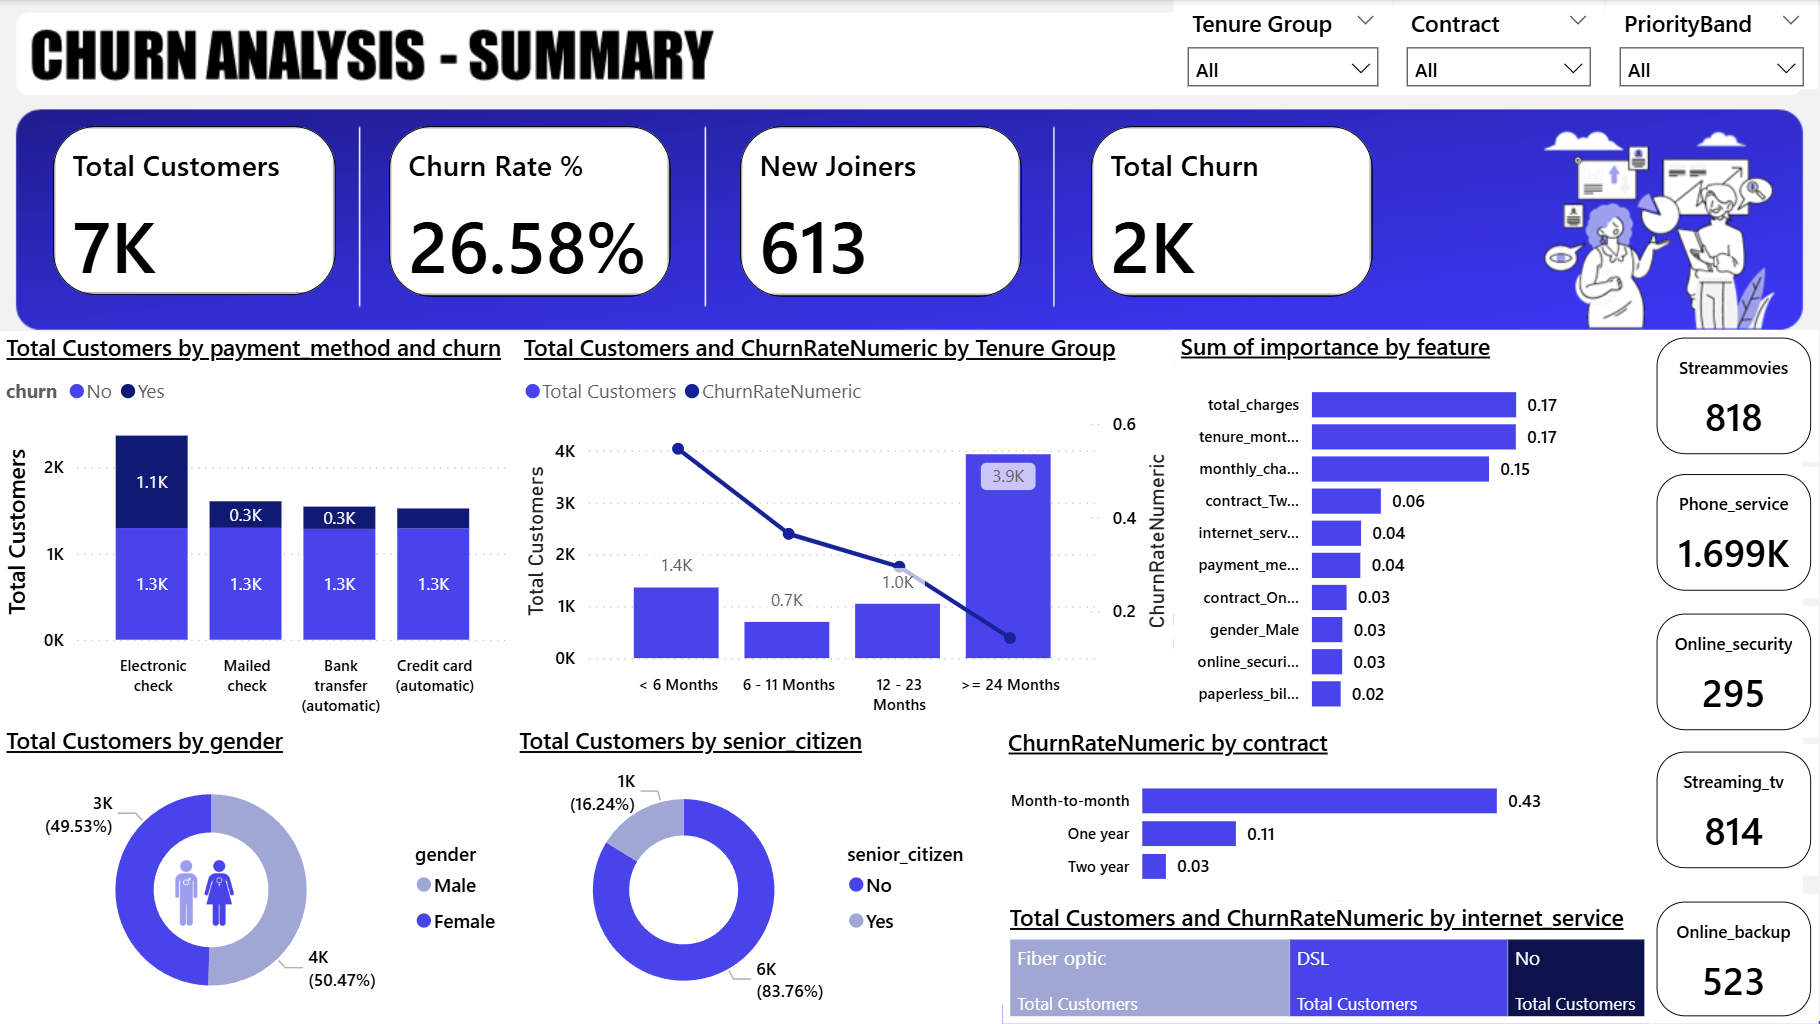

Layout of this report page (visuals, bound fields, positions):
{"tool":"powerbi","page":{"name":"Churn Dashboard","canvas":[1280,720],"ordinal":0},"visuals":[{"type":"cardVisual","fields":{"Data":["telco_project vw_churn_data.Total Customers"]},"box":[32.4,83.4,209.7,129.8],"z":0},{"type":"cardVisual","fields":{"Data":["telco_project vw_churn_data.Total Churn"]},"box":[762.5,83.8,208.8,130],"z":1000},{"type":"cardVisual","fields":{"Data":["telco_project vw_churn_data.Churn Rate %"]},"box":[268.8,83.8,208.8,130],"z":2000},{"type":"cardVisual","fields":{"Data":["telco_project vw_churn_data.New Joiners"]},"box":[516.2,83.8,208.8,130],"z":3000},{"type":"lineStackedColumnComboChart","fields":{"Category":["telco_project vw_churn_data.Tenure Group"],"Y":["telco_project vw_churn_data.Total Customers"],"Y2":["telco_project vw_churn_data.ChurnRateNumeric"]},"box":[363.9,233.1,462,276.3],"z":4000},{"type":"clusteredBarChart","fields":{"Category":["telco_project vw_churn_data.contract"],"Y":["telco_project vw_churn_data.ChurnRateNumeric"]},"box":[704.7,510.6,455.3,122.4],"z":5000},{"type":"donutChart","fields":{"Category":["telco_project vw_churn_data.gender"],"Y":["telco_project vw_churn_data.Total Customers"]},"box":[0,509.4,363.5,210.6],"z":6000},{"type":"treemap","fields":{"Group":["telco_project vw_churn_data.internet_service"],"Values":["telco_project vw_churn_data.Total Customers","telco_project vw_churn_data.ChurnRateNumeric"]},"box":[705.9,634.1,456.5,85.9],"z":7000},{"type":"columnChart","fields":{"Category":["telco_project vw_churn_data.payment_method"],"Y":["telco_project vw_churn_data.Total Customers"],"Series":["telco_project vw_churn_data.churn"]},"box":[0,233.1,363.9,277.4],"z":8000},{"type":"clusteredBarChart","fields":{"Category":["feature_importances.feature"],"Y":["Sum(feature_importances.importance)"]},"box":[825.6,231.9,335.7,278.7],"z":9000},{"type":"slicer","fields":{"Values":["telco_project vw_churn_data.Tenure Group"]},"box":[825.6,0,154.1,62.6],"z":10000,"group":"g1"},{"type":"cardVisual","title":"Phone Service","fields":{"Data":["CountNonNull(telco_project vw_churn_data.phone_service)"]},"box":[1160.4,328.2,119.5,92.4],"z":10000,"group":"g2"},{"type":"donutChart","fields":{"Category":["telco_project vw_churn_data.senior_citizen"],"Y":["telco_project vw_churn_data.Total Customers"]},"box":[361.2,509.4,344.7,210.6],"z":10000},{"type":"group","id":"g1","title":"Group 1","box":[825.6,0,453.8,62.8],"z":11000},{"type":"slicer","fields":{"Values":["telco_project vw_churn_data.contract"]},"box":[979.7,0,149.5,62.6],"z":11000,"group":"g1"},{"type":"cardVisual","fields":{"Data":["CountNonNull(telco_project vw_churn_data.streaming_tv)"]},"box":[1160.4,523.4,119.5,92.4],"z":11000,"group":"g2"},{"type":"slicer","fields":{"Values":["telco_project vw_churn_data.PriorityBand"]},"box":[1129.2,0,149.5,62.6],"z":12000,"group":"g1"},{"type":"group","id":"g2","title":"Group 2","box":[1160.4,231.9,119.8,487.9],"z":12000},{"type":"cardVisual","fields":{"Data":["CountNonNull(telco_project vw_churn_data.streaming_movies)"]},"box":[1160.4,231.9,119.5,92.4],"z":12000,"group":"g2"},{"type":"image","box":[88.3,592.2,111.7,70.1],"z":13000},{"type":"cardVisual","fields":{"Data":["CountNonNull(telco_project vw_churn_data.online_backup)"]},"box":[1160.4,628.8,119.5,91.1],"z":13000,"group":"g2"},{"type":"cardVisual","fields":{"Data":["CountNonNull(telco_project vw_churn_data.online_security)"]},"box":[1160.4,425.8,119.5,92.4],"z":14000,"group":"g2"}]}

Visuals, with their boxes in screenshot pixels (x1, y1, x2, y2), scaled from the page's 1280x720 canvas onto the 1820x1024 screenshot:
cardVisual - telco_project vw_churn_data.Total Customers: <bbox>46, 119, 344, 303</bbox>
cardVisual - telco_project vw_churn_data.Total Churn: <bbox>1084, 119, 1381, 304</bbox>
cardVisual - telco_project vw_churn_data.Churn Rate %: <bbox>382, 119, 679, 304</bbox>
cardVisual - telco_project vw_churn_data.New Joiners: <bbox>734, 119, 1031, 304</bbox>
lineStackedColumnComboChart - telco_project vw_churn_data.Tenure Group x telco_project vw_churn_data.Total Customers: <bbox>517, 332, 1174, 724</bbox>
clusteredBarChart - telco_project vw_churn_data.contract x telco_project vw_churn_data.ChurnRateNumeric: <bbox>1002, 726, 1649, 900</bbox>
donutChart - telco_project vw_churn_data.gender x telco_project vw_churn_data.Total Customers: <bbox>0, 724, 517, 1023</bbox>
treemap - telco_project vw_churn_data.internet_service x telco_project vw_churn_data.Total Customers: <bbox>1004, 902, 1653, 1023</bbox>
columnChart - telco_project vw_churn_data.payment_method x telco_project vw_churn_data.Total Customers: <bbox>0, 332, 517, 726</bbox>
clusteredBarChart - feature_importances.feature x Sum(feature_importances.importance): <bbox>1174, 330, 1651, 726</bbox>
slicer - telco_project vw_churn_data.Tenure Group: <bbox>1174, 0, 1393, 89</bbox>
"Phone Service" cardVisual: <bbox>1650, 467, 1819, 598</bbox>
donutChart - telco_project vw_churn_data.senior_citizen x telco_project vw_churn_data.Total Customers: <bbox>514, 724, 1004, 1023</bbox>
"Group 1" group: <bbox>1174, 0, 1819, 89</bbox>
slicer - telco_project vw_churn_data.contract: <bbox>1393, 0, 1606, 89</bbox>
cardVisual - CountNonNull(telco_project vw_churn_data.streaming_tv): <bbox>1650, 744, 1819, 876</bbox>
slicer - telco_project vw_churn_data.PriorityBand: <bbox>1606, 0, 1818, 89</bbox>
"Group 2" group: <bbox>1650, 330, 1819, 1023</bbox>
cardVisual - CountNonNull(telco_project vw_churn_data.streaming_movies): <bbox>1650, 330, 1819, 461</bbox>
image: <bbox>126, 842, 284, 942</bbox>
cardVisual - CountNonNull(telco_project vw_churn_data.online_backup): <bbox>1650, 894, 1819, 1023</bbox>
cardVisual - CountNonNull(telco_project vw_churn_data.online_security): <bbox>1650, 606, 1819, 737</bbox>
